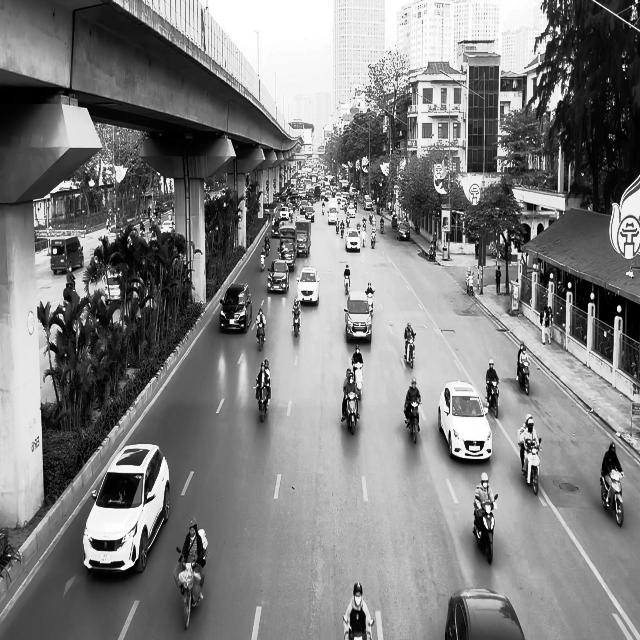car: (82, 443, 171, 574), (438, 379, 492, 462), (445, 588, 526, 639), (220, 282, 252, 333), (344, 290, 373, 342), (296, 266, 320, 305), (267, 259, 290, 293), (345, 229, 361, 252), (396, 222, 411, 240)
motorbike: (174, 546, 208, 630), (472, 493, 498, 564), (600, 467, 624, 527), (521, 437, 542, 495), (404, 399, 422, 444), (344, 388, 361, 434), (485, 378, 500, 418), (256, 380, 270, 422), (517, 360, 530, 394), (405, 332, 416, 368), (256, 322, 266, 351), (293, 309, 301, 337), (344, 273, 350, 295)
